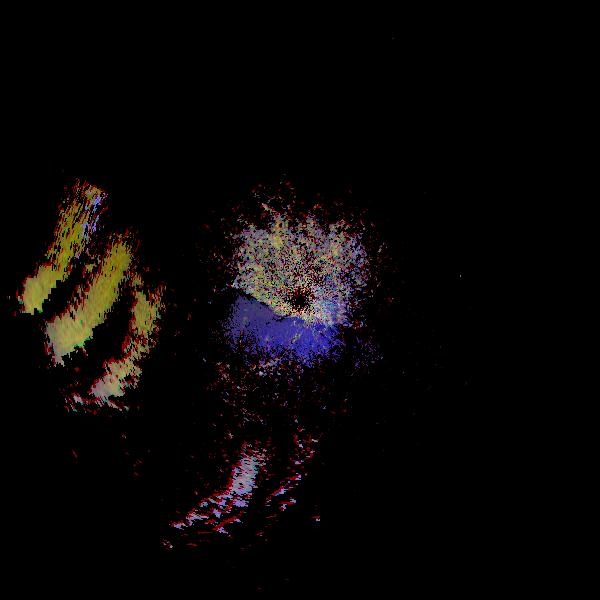roost: (40, 309, 304, 573)
